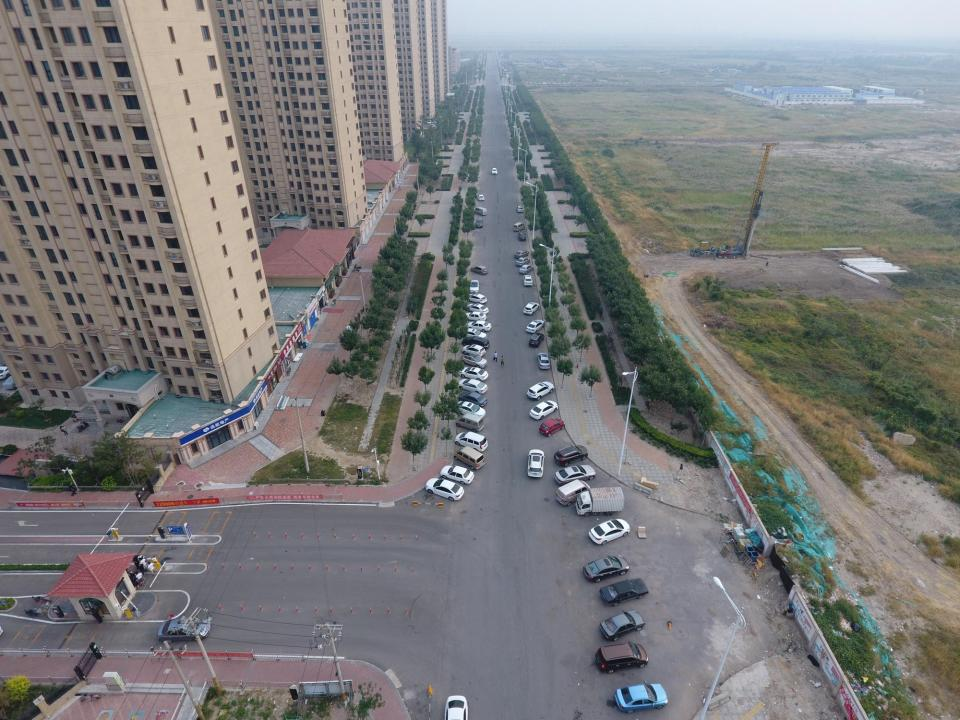car: (594, 640, 648, 674), (614, 680, 668, 713), (598, 608, 646, 640), (599, 578, 649, 606), (582, 554, 630, 583), (157, 618, 211, 642), (588, 518, 630, 545), (424, 478, 464, 501), (554, 465, 596, 485), (553, 445, 588, 467), (454, 431, 489, 453), (439, 465, 474, 484), (454, 400, 486, 419), (444, 695, 468, 720), (529, 400, 558, 419), (526, 381, 554, 400), (458, 390, 488, 407), (458, 378, 488, 395), (527, 449, 544, 478), (458, 366, 488, 382), (539, 418, 565, 436), (460, 352, 488, 368), (461, 335, 490, 350), (463, 327, 488, 343), (461, 344, 486, 357), (467, 320, 492, 332), (525, 319, 545, 334), (466, 303, 489, 315), (528, 332, 544, 348), (537, 351, 551, 369), (465, 311, 487, 322), (465, 293, 487, 304), (522, 302, 539, 315), (469, 279, 479, 294), (518, 264, 533, 274), (514, 249, 529, 259), (515, 257, 530, 266), (523, 275, 533, 286), (475, 217, 483, 228), (518, 232, 526, 241), (478, 194, 485, 201), (516, 206, 524, 212), (492, 167, 498, 174)
truck: (575, 486, 625, 516)
van: (555, 479, 590, 507), (452, 445, 486, 471), (455, 413, 485, 432), (470, 265, 488, 275), (473, 207, 488, 216), (513, 222, 526, 232)
